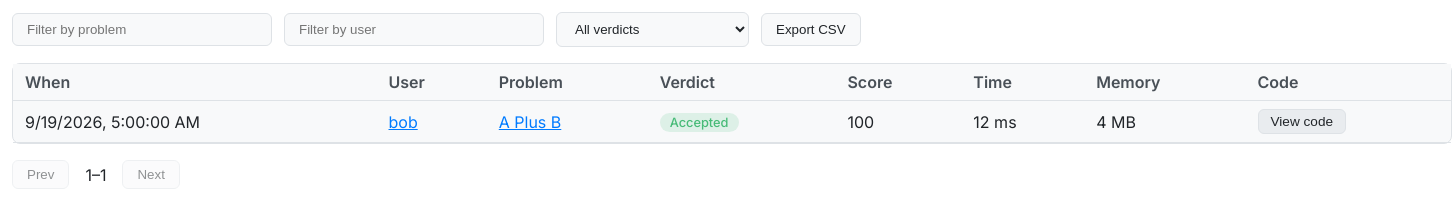
Test: SubmissionsTab › shows problem suggestions while typing and filters on selection
The width and height of the screenshot is (1452, 206).
Check: the button "A Plus B" is shown, box [499, 112, 561, 132]
Type "plus" into the field labelled "Filter by problem" at (142, 30), box [12, 13, 272, 46]
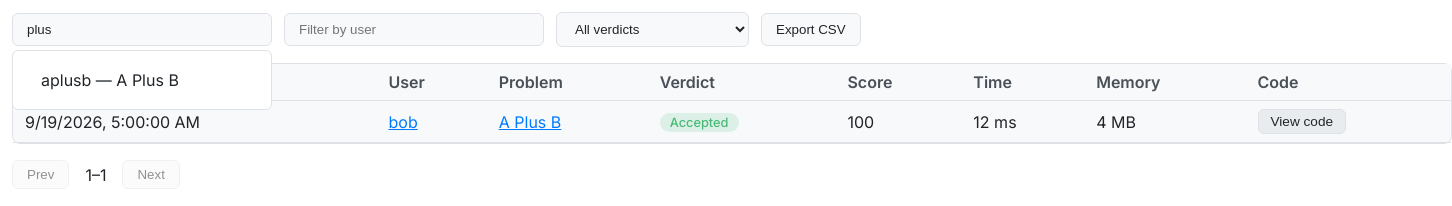
Click the button "aplusb — A Plus B" at (142, 80), box [27, 61, 257, 100]
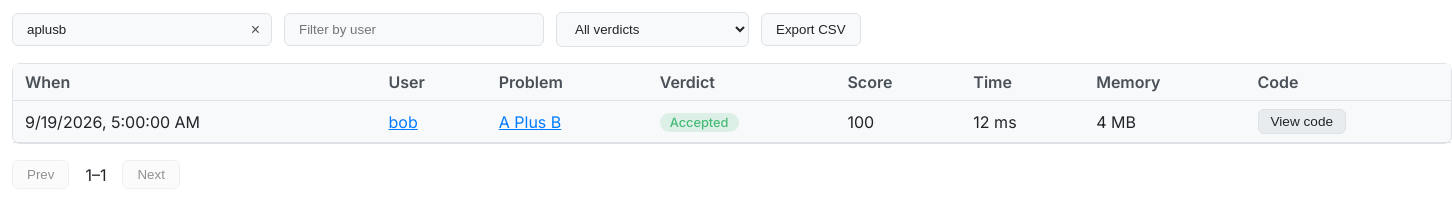
Check: the button named "Clear problem filter" is shown, box [247, 22, 264, 38]
